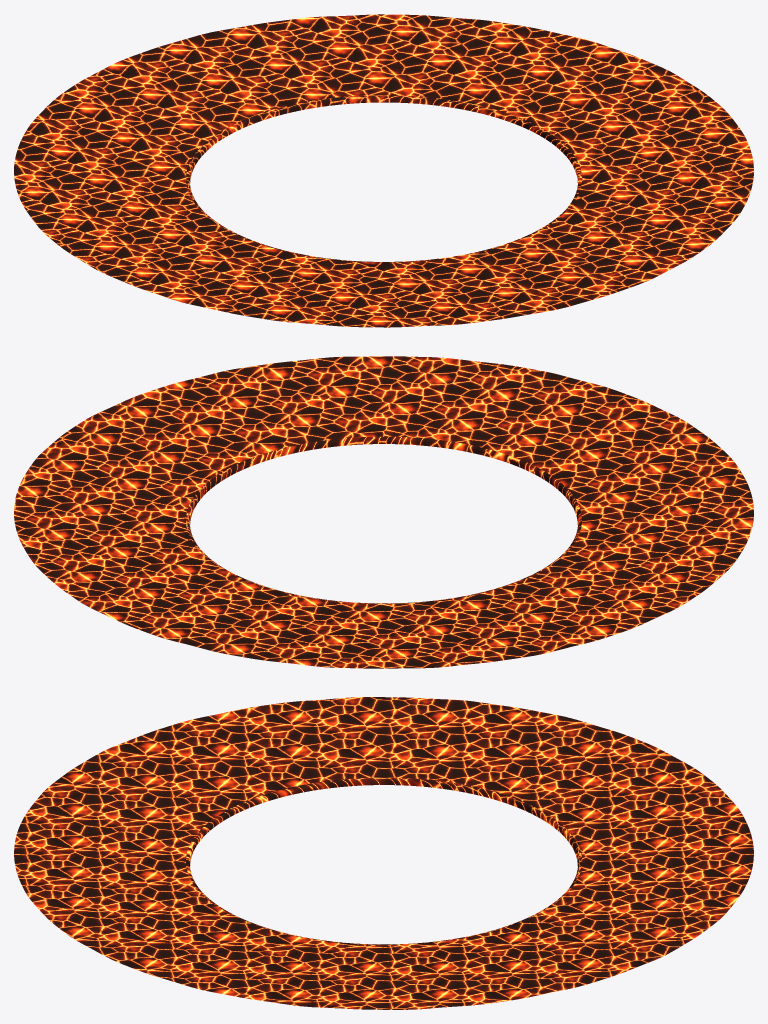
Rendered from lava_flood.glb.
3 views of the same model, one above another, from view 1: azimuth 30°, elevation 25°; view 2: azimuth 150°, elevation 25°; view 3: azimuth 270°, elevation 25° (orthographic).
Size of the model in its own units: 142 by 2.95 by 142.
1 material, 1 textured.
